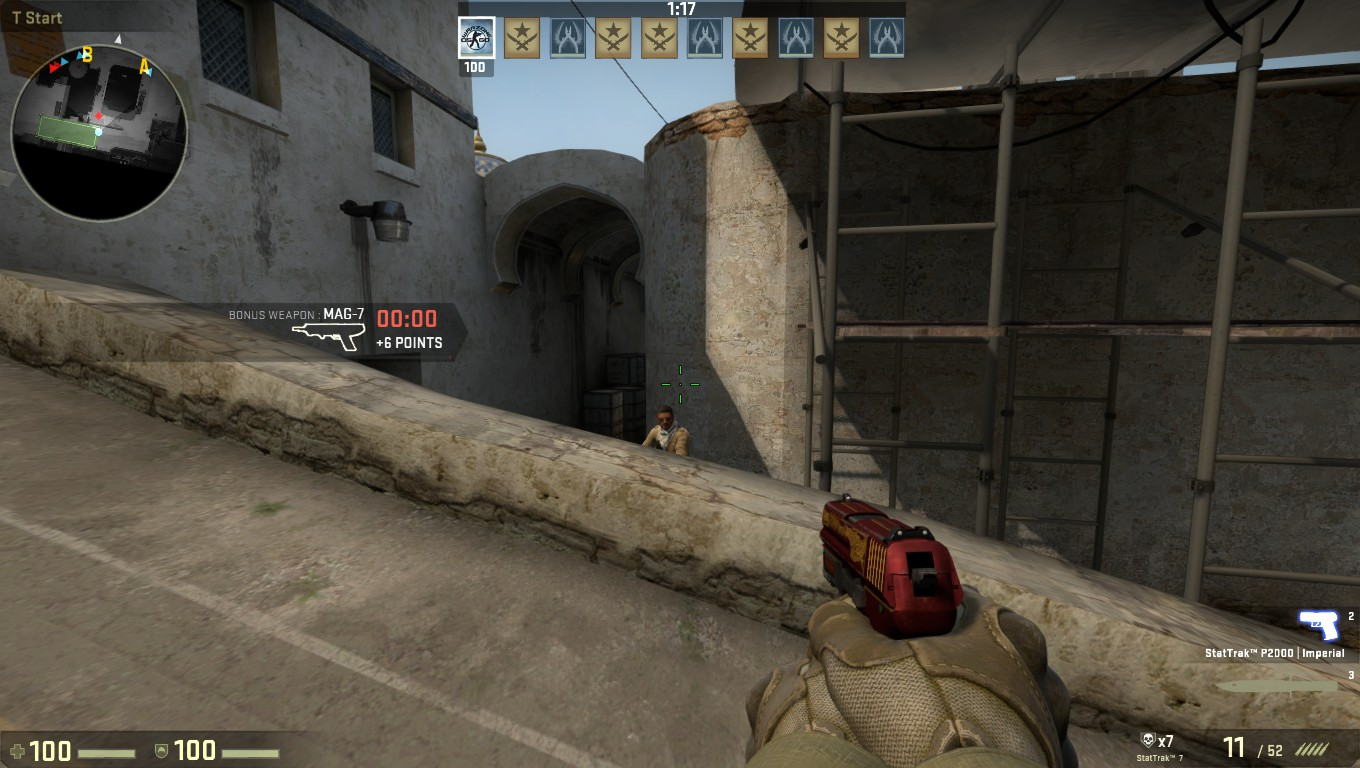t: (640, 403, 695, 462)
th: (651, 405, 676, 435)
